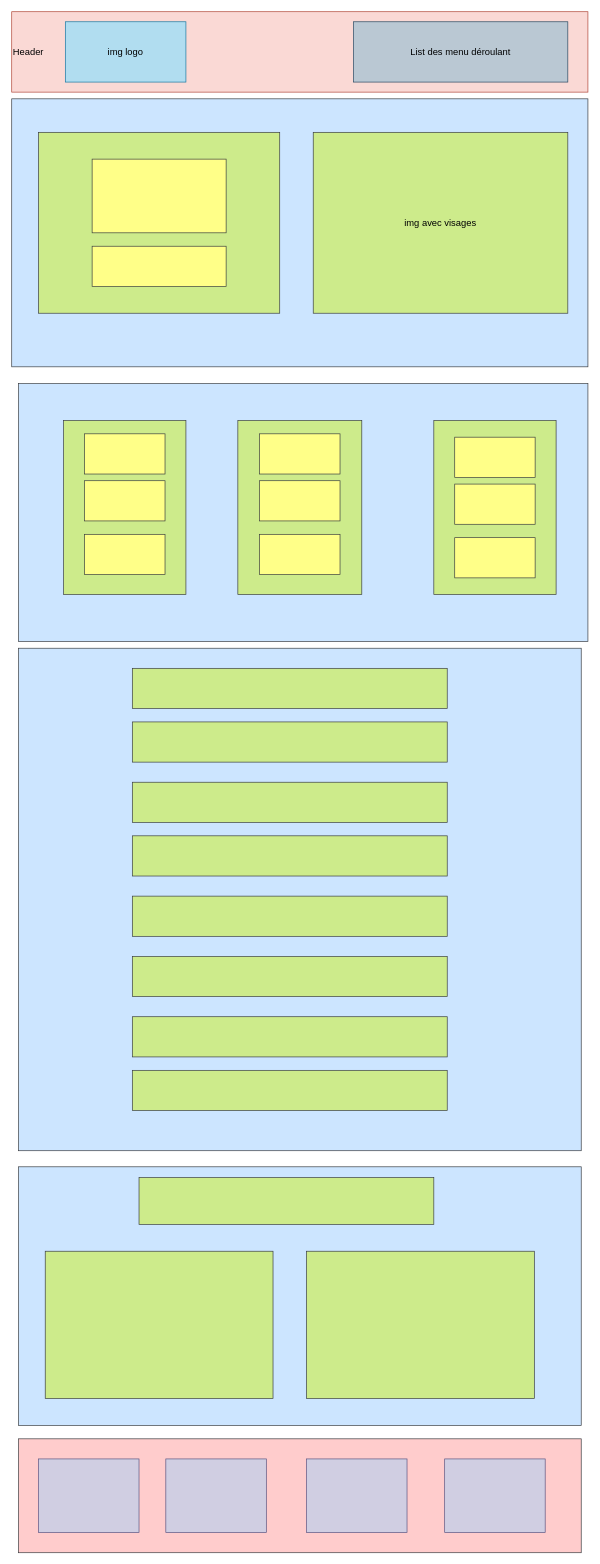
Some shapes in this 600 by 1564 pixel diagram are drawn without their labels. Each missing label, with the box of its shape:
pavé de texte: (91, 158, 226, 233)
texte au millieux: (91, 246, 226, 286)
